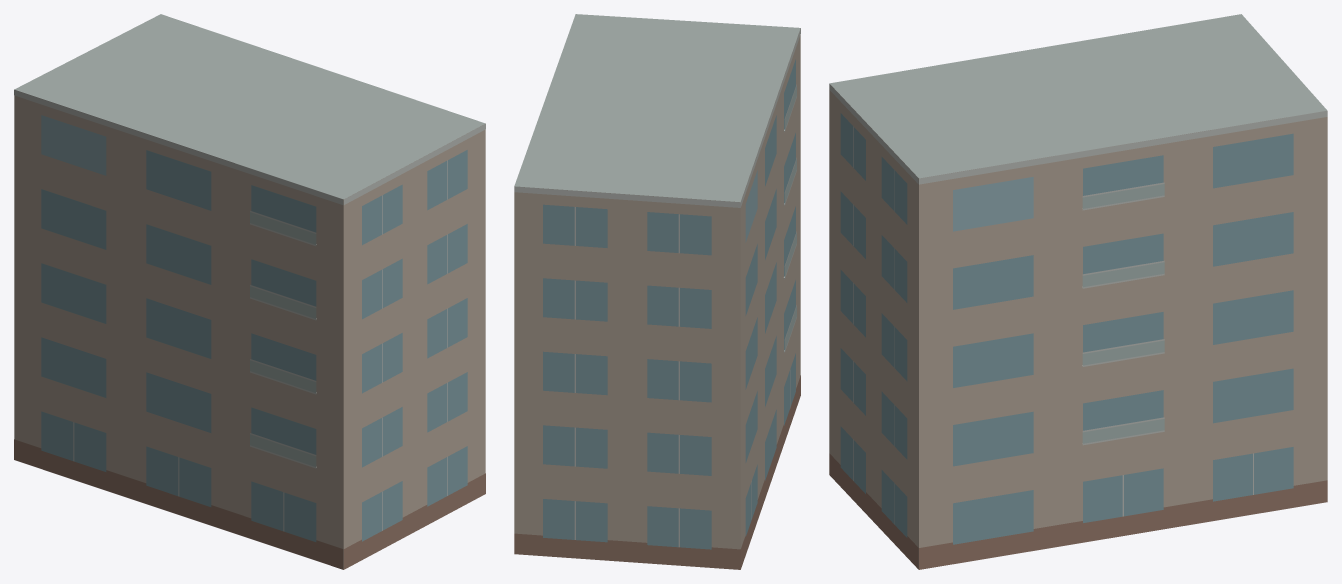
Rendered from survey-upis-32857778.glb.
3 views of the same model, side by side, from view 1: azimuth 30°, elevation 25°; view 2: azimuth 150°, elevation 25°; view 3: azimuth 270°, elevation 25° (orthographic). The views are drawn at different scales.
Visible parts, largest first — view 1: survey-upis-32857778.tmp; view 2: survey-upis-32857778.tmp; view 3: survey-upis-32857778.tmp.
Part boxes in pixels (x1,y1,x2,y2): survey-upis-32857778.tmp: (14, 14, 485, 569); survey-upis-32857778.tmp: (514, 14, 800, 569); survey-upis-32857778.tmp: (829, 14, 1327, 569).
Bounding box in the file's own units: 13.88 × 15.4 × 17.78.
